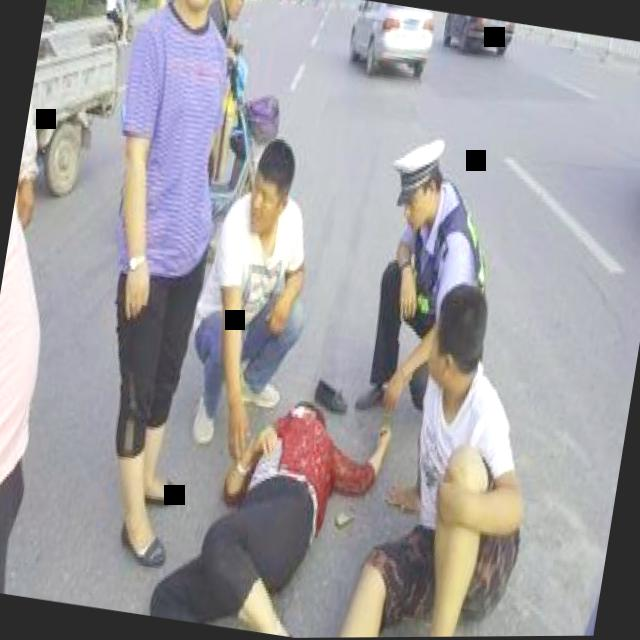Fall-Detected: (121, 349, 403, 639)
